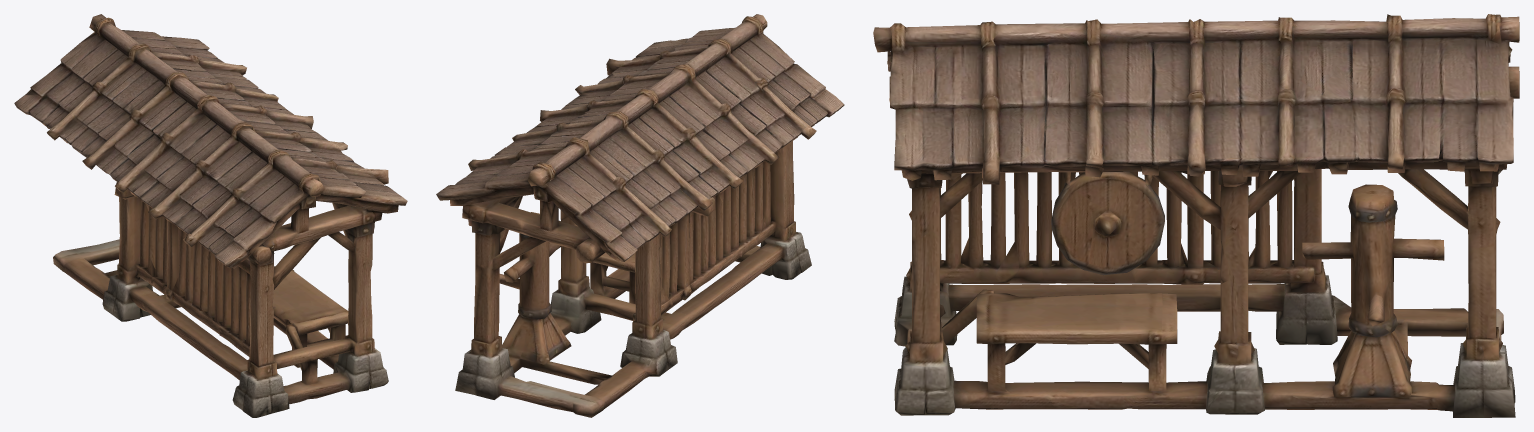
File: kisla-sv1.glb
3 views of the same model, side by side, from view 1: azimuth 30°, elevation 25°; view 2: azimuth 150°, elevation 25°; view 3: azimuth 270°, elevation 25° (orthographic). The views are drawn at different scales.
Visible parts, largest first — view 1: tripo_node_54664ac9-b0ed-4946-9112-3e6b0e411680; view 2: tripo_node_54664ac9-b0ed-4946-9112-3e6b0e411680; view 3: tripo_node_54664ac9-b0ed-4946-9112-3e6b0e411680.
Part boxes in pixels (box(x1,y1,x2,y2)): tripo_node_54664ac9-b0ed-4946-9112-3e6b0e411680: box(14, 14, 407, 417); tripo_node_54664ac9-b0ed-4946-9112-3e6b0e411680: box(436, 14, 844, 417); tripo_node_54664ac9-b0ed-4946-9112-3e6b0e411680: box(873, 14, 1519, 417).
Size of the model in its own units: 0.5288 by 0.5889 by 1.
Materials: 1 (1 with a texture image).
